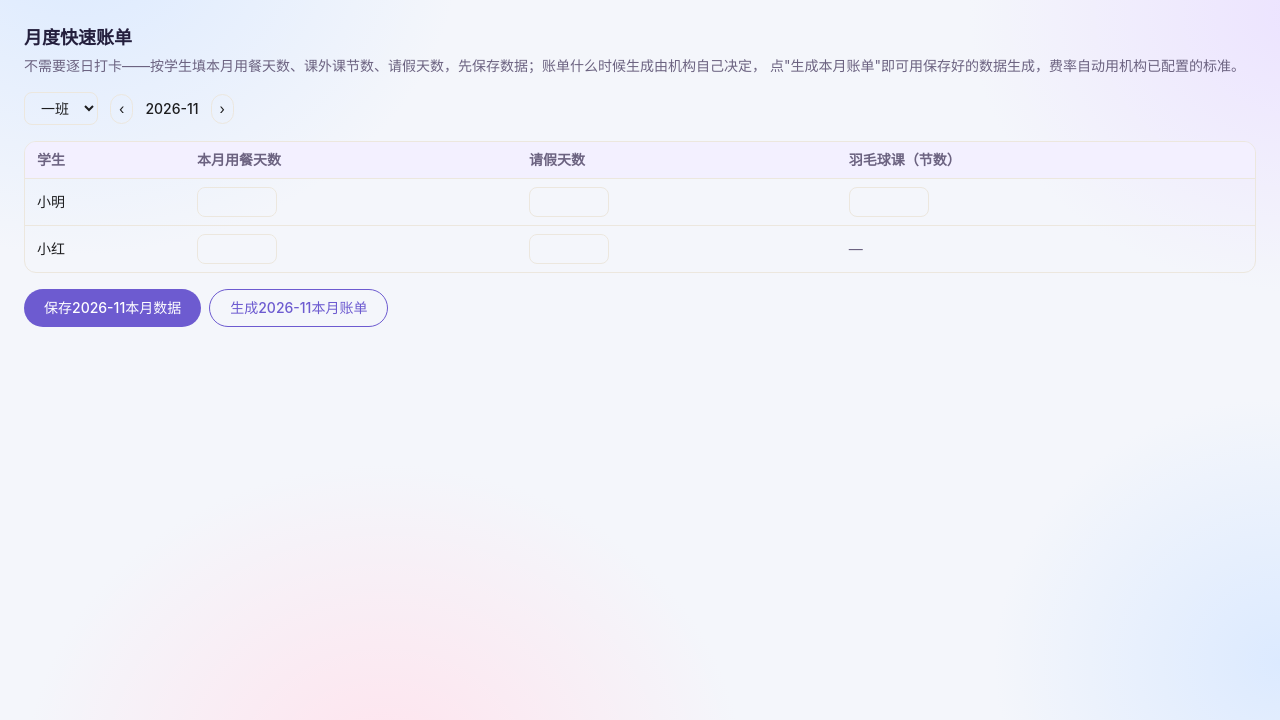
Test case: AdminMonthlyQuickBillModule › shows an error message when saving data fails
The image size is (1280, 720).
Expected: the text "小明" is shown, x1=25 y1=178 x2=185 y2=226
Type "3" into the 1st number field at (237, 202), box x1=197 y1=187 x2=277 y2=217
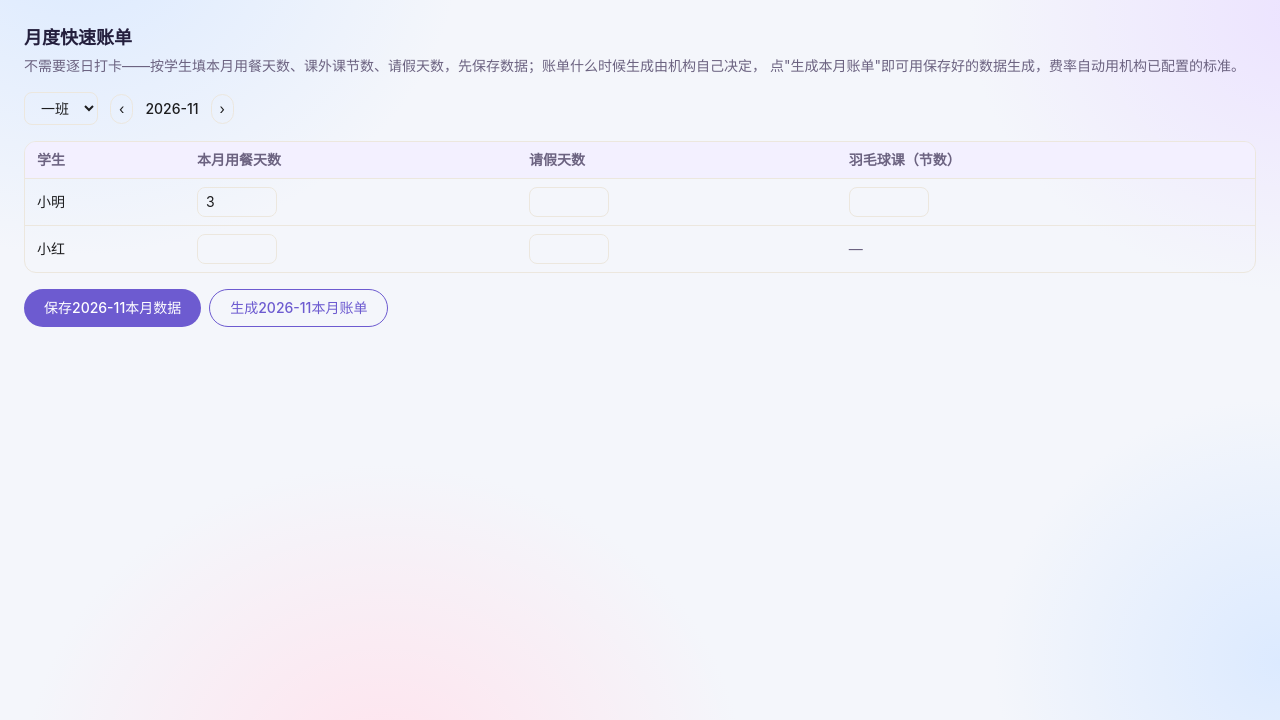
Click the button "保存2026-11本月数据" at (113, 308), box x1=24 y1=289 x2=201 y2=327
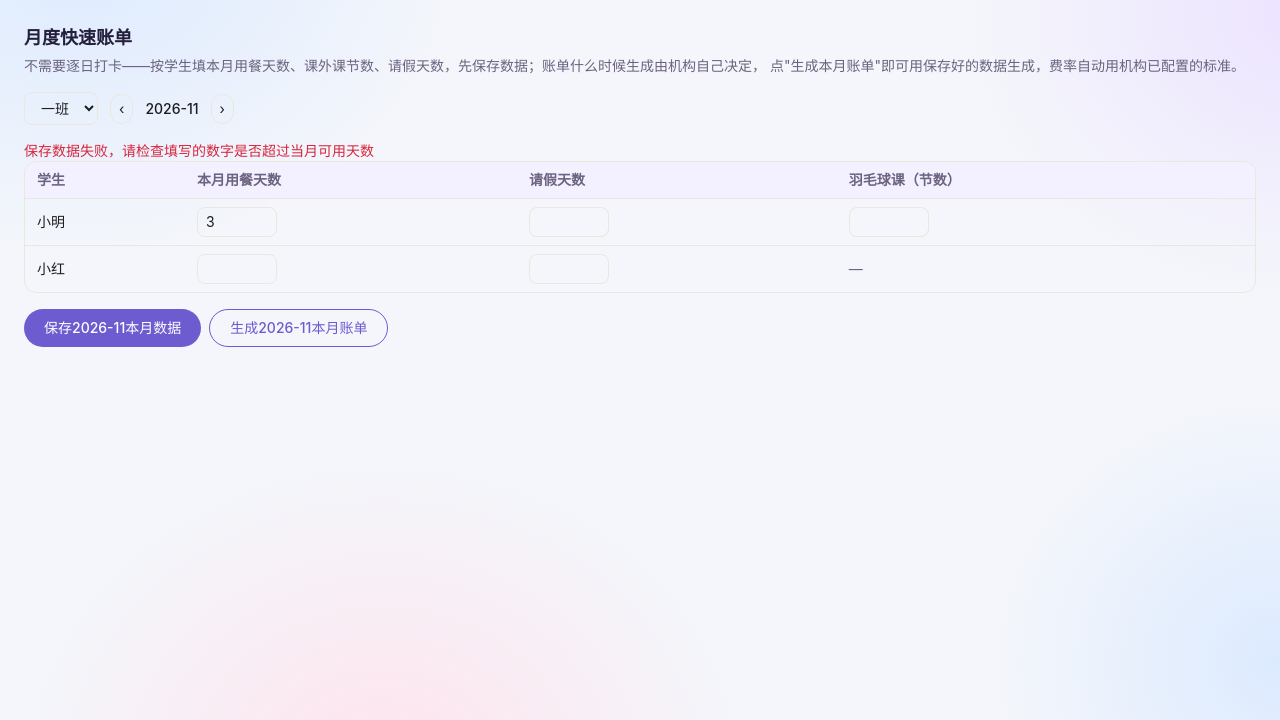
Expected: the text "保存数据失败，请检查填写的数字是否超过当月可用天数" is shown, x1=24 y1=142 x2=374 y2=159
